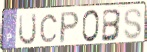B: (101, 8, 123, 43)
C: (39, 14, 58, 44)
O: (81, 9, 100, 44)
P: (59, 11, 81, 45)
S: (123, 8, 143, 41)
U: (18, 13, 38, 47)
